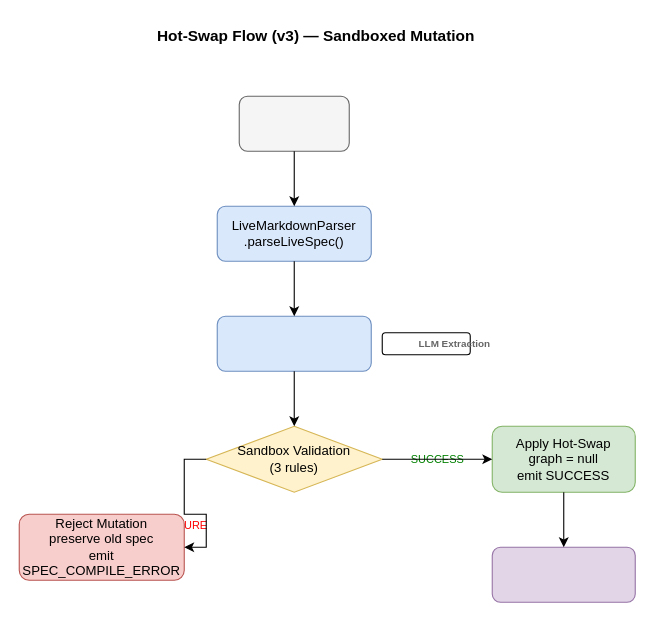
Some shapes in this 655 by 622 pixel diagram are drawn without their labels. Here are the shapes that lost their labels. From the top down, the centre of each, then its label:
the point at 293,123: Agent .md file change
the point at 293,343: PipelineExtractor .extract(rawSpec)
the point at 563,574: resolvePhaseIndex() realignment
